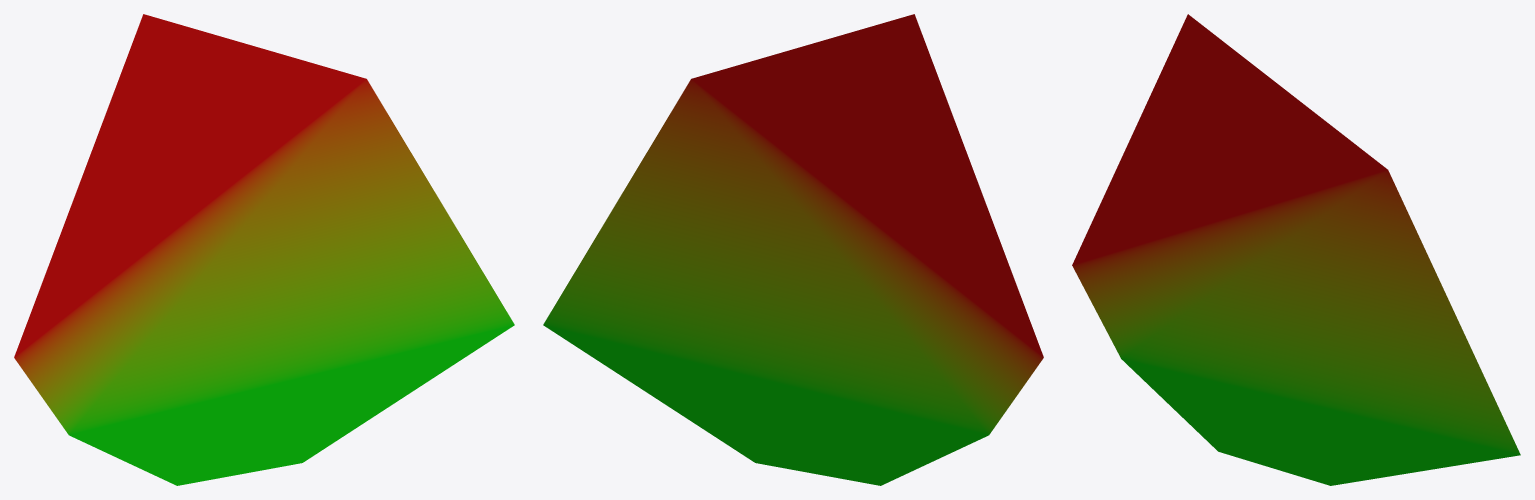
Rendered from Var3_LOD3.fbx.
The picture shows the model from 3 angles, left to right: view 1: azimuth 30°, elevation 25°; view 2: azimuth 150°, elevation 25°; view 3: azimuth 330°, elevation 25°; orthographic projection. The views are drawn at different scales.
Visible parts, largest first — view 1: Var3_LOD3; view 2: Var3_LOD3; view 3: Var3_LOD3.
Part boxes in pixels (x1,y1,x2,y2): Var3_LOD3: (14, 14, 514, 485); Var3_LOD3: (543, 14, 1043, 485); Var3_LOD3: (1072, 14, 1520, 485).
Size of the model in its own units: 70.92 by 66 by 2.62e-06.
